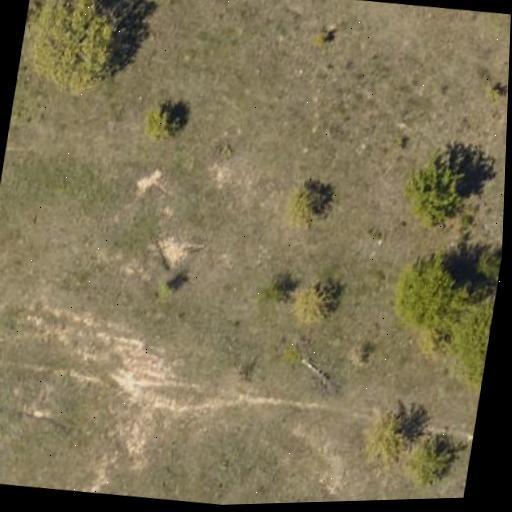tree-top: (17, 0, 131, 97), (393, 248, 469, 341), (446, 289, 496, 405), (398, 154, 467, 232), (364, 408, 416, 464), (411, 432, 461, 486), (287, 176, 340, 226), (294, 283, 344, 330), (144, 104, 193, 146)
